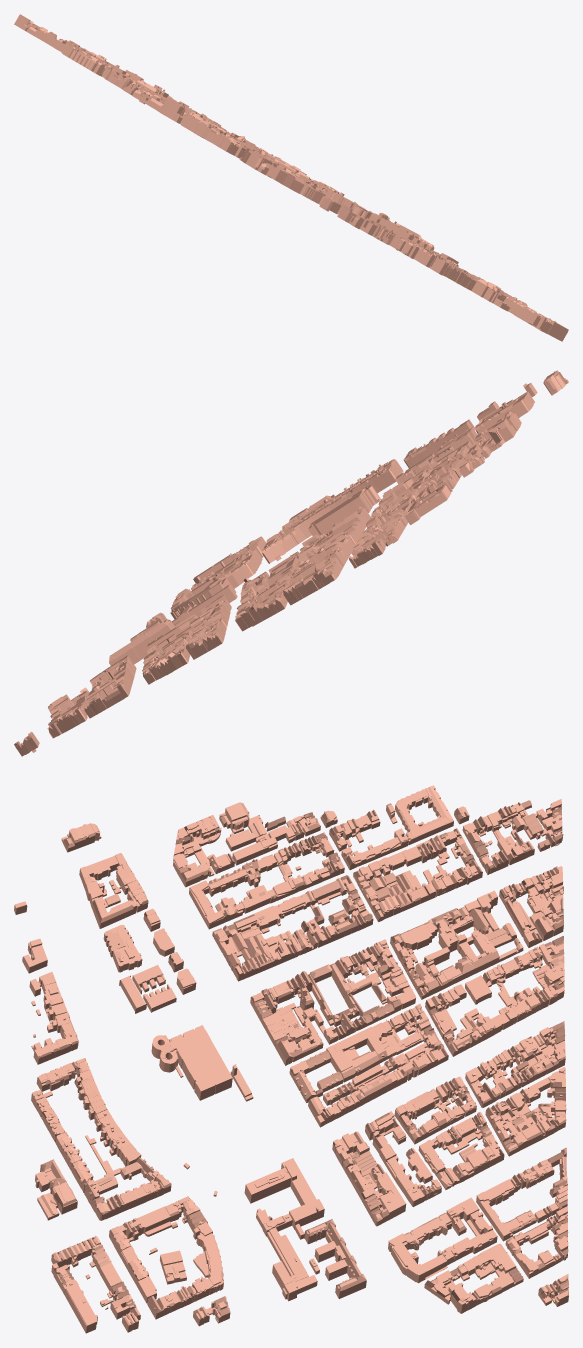
3 renders of one model, top to bottom at view 1: azimuth 30°, elevation 25°; view 2: azimuth 150°, elevation 25°; view 3: azimuth 270°, elevation 25°, orthographic. The views are drawn at different scales.
Bounding box in the file's own units: 1.8e+07 × 1.31e+07 × 1.95e+07.
